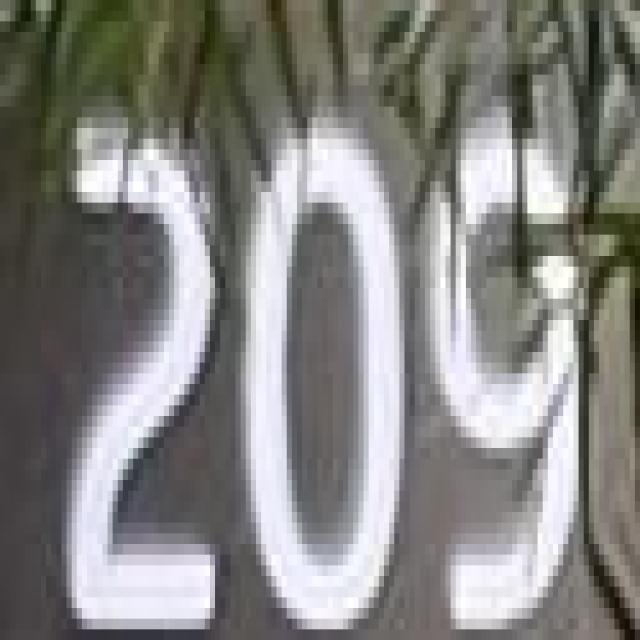character: (240, 107, 412, 629), (62, 98, 225, 630), (424, 102, 584, 630)
